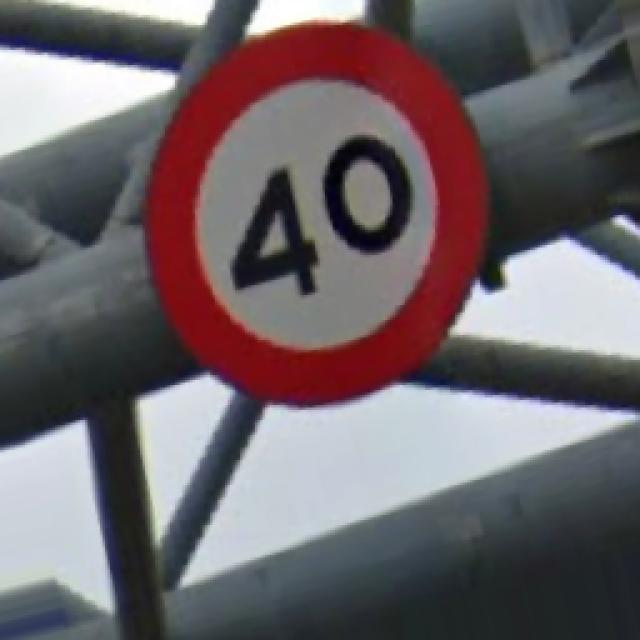Speed Limit -40-: (148, 22, 485, 402)
